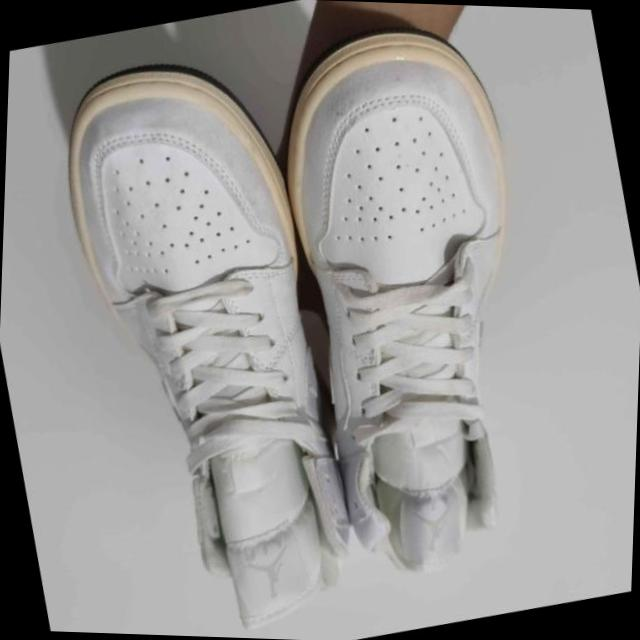nike_fake_jordan: (19, 35, 383, 640), (236, 6, 584, 594)
